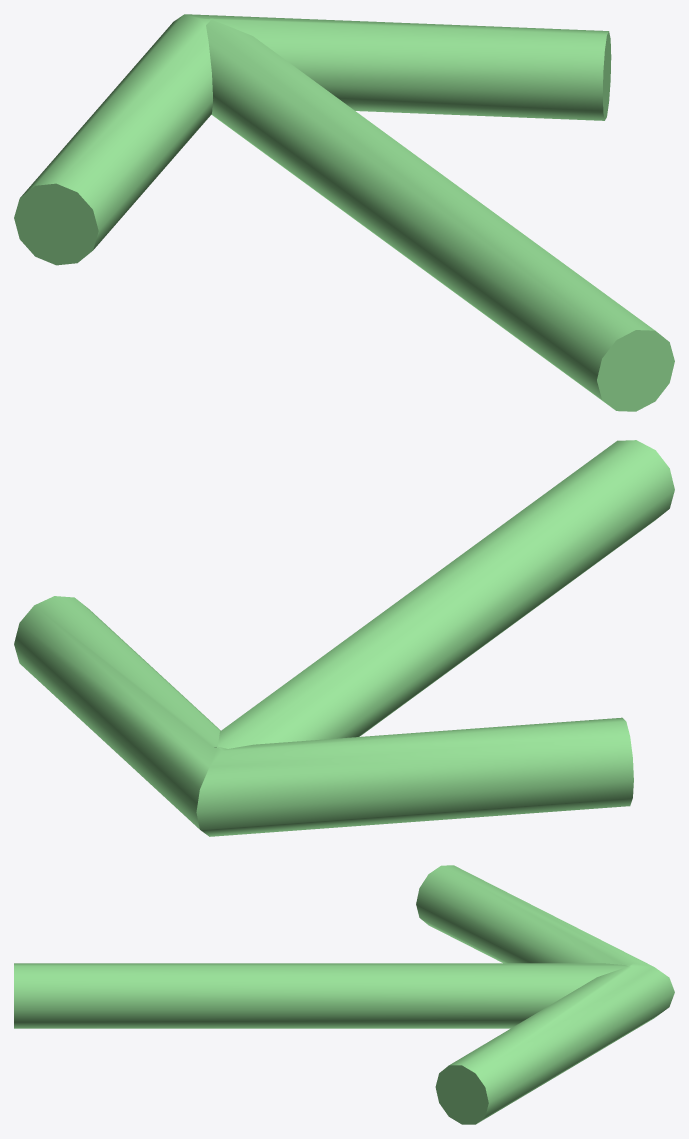
The model's file is arrow.obj.
3 views of the same model, one above another, from view 1: azimuth 30°, elevation 25°; view 2: azimuth 150°, elevation 25°; view 3: azimuth 270°, elevation 25° (orthographic). The views are drawn at different scales.
Parts seen in each view (by area): view 1: Line002; view 2: Line002; view 3: Line002.
Boxes of the visible parts, x1,y1,x2,y2 form: Line002: [14, 14, 674, 411]; Line002: [14, 440, 674, 836]; Line002: [14, 865, 674, 1124].
Bounding box in the file's own units: 3.92 × 0.5 × 5.05.
